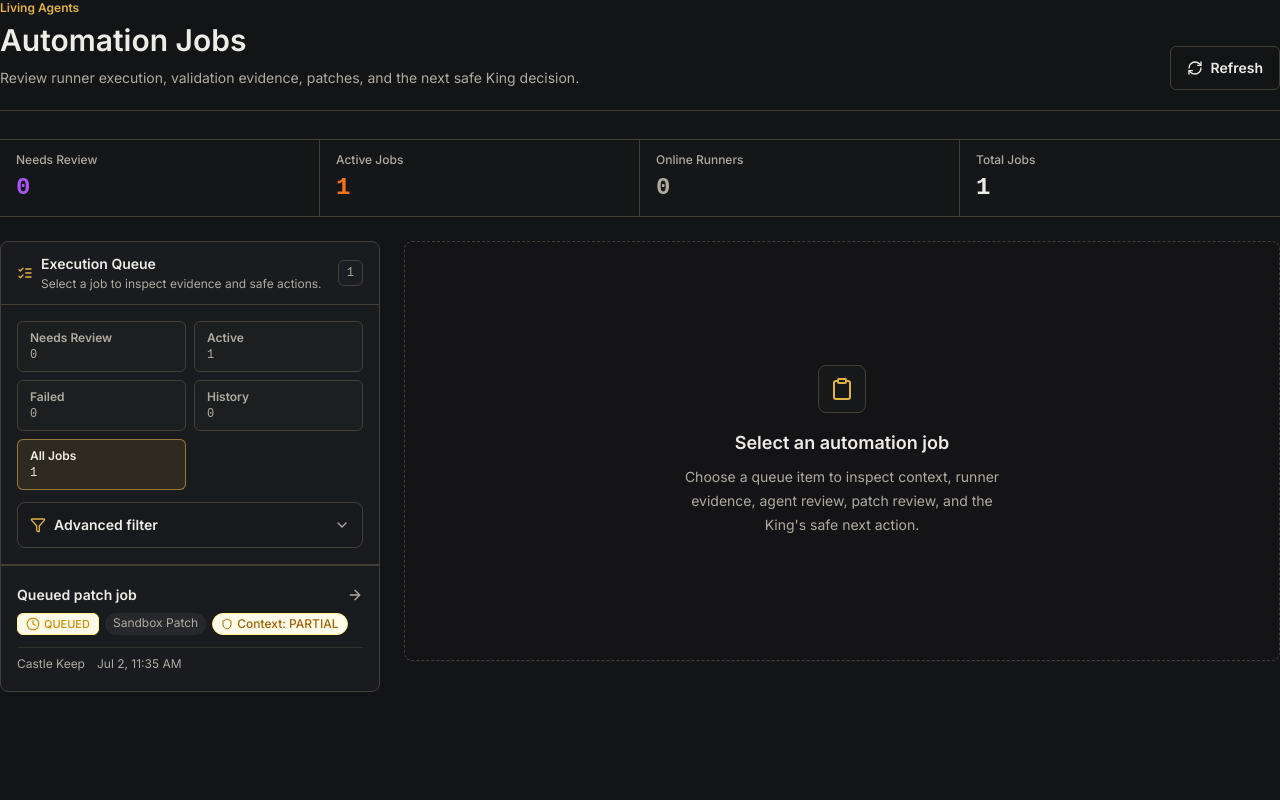
Test: AutomationJobsPage — M17G imported patch status display › shows Import Patch button for QUEUED jobs
Click the heading "Queued patch job": (77, 595) [17,585,137,605]
(page scrolled)
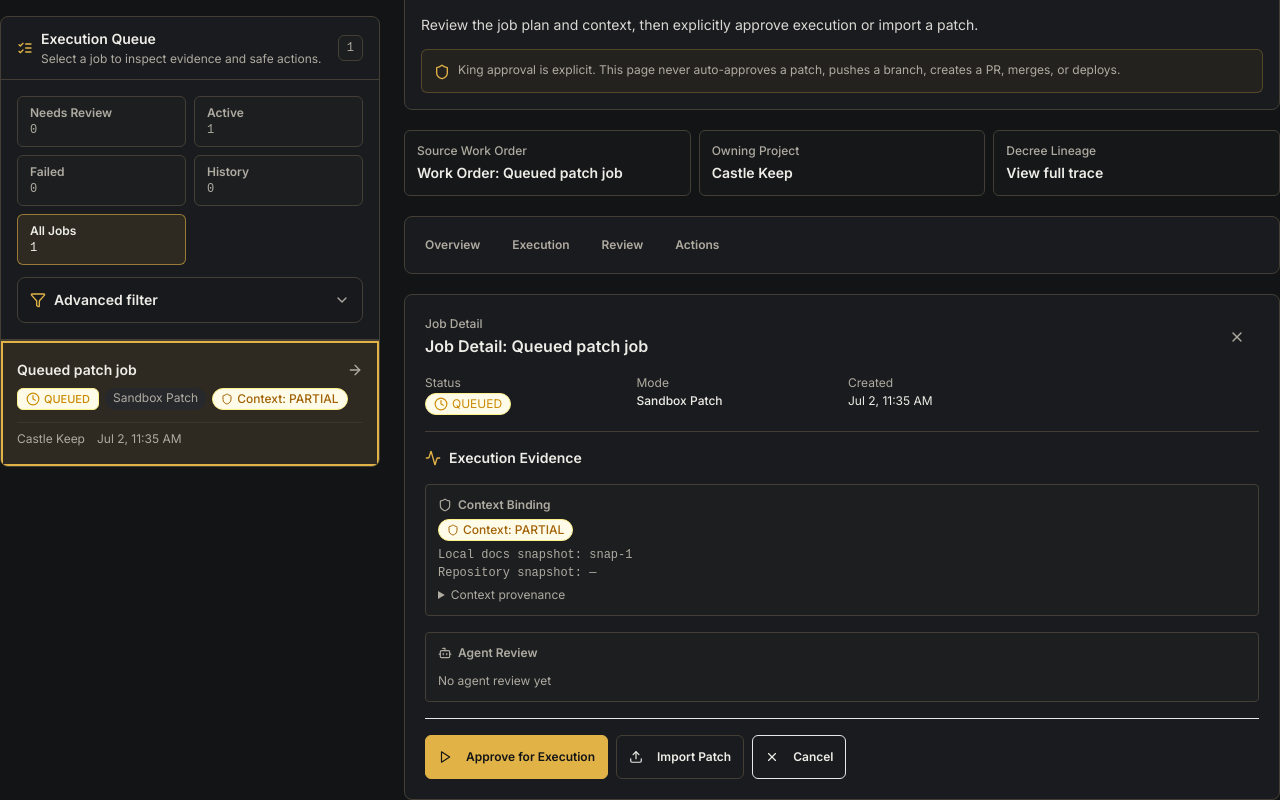
Expected: the button "Import Patch" is shown, [616,735,744,779]
